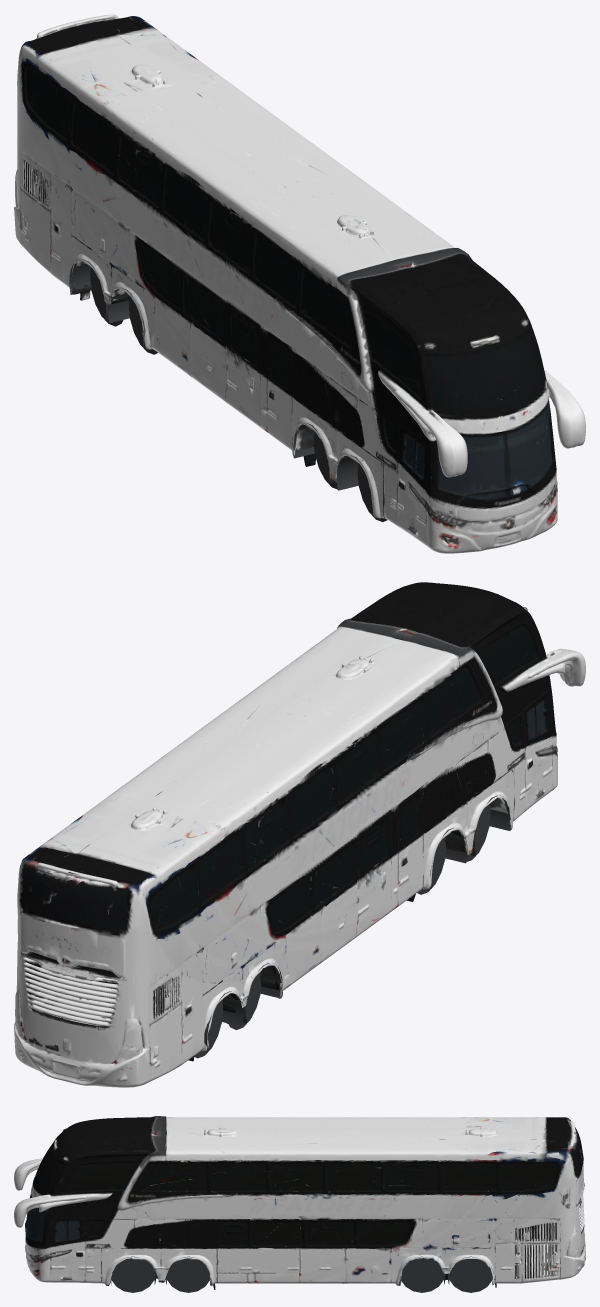
File: rodoviario_4e.glb
The picture shows the model from 3 angles, top to bottom: view 1: azimuth 30°, elevation 25°; view 2: azimuth 150°, elevation 25°; view 3: azimuth 270°, elevation 25°; orthographic projection. The views are drawn at different scales.
Visible parts, largest first — view 1: carroceria, chassi, porta_frente, carroceria_dentro; view 2: carroceria, chassi, porta_frente, carroceria_dentro; view 3: carroceria, chassi, carroceria_dentro.
Part boxes in pixels (x1,y1,x2,y2): carroceria: (14, 14, 585, 553); chassi: (69, 259, 387, 521); porta_frente: (395, 424, 428, 546); carroceria_dentro: (15, 17, 566, 545); carroceria: (14, 582, 585, 1087); chassi: (194, 795, 511, 1058); porta_frente: (522, 685, 552, 811); carroceria_dentro: (22, 619, 582, 1082); carroceria: (14, 1116, 585, 1289); chassi: (110, 1239, 494, 1292); carroceria_dentro: (17, 1122, 581, 1287).
Bounding box in the file's own units: 2.77 × 4.28 × 15.
2 materials, 1 textured.
